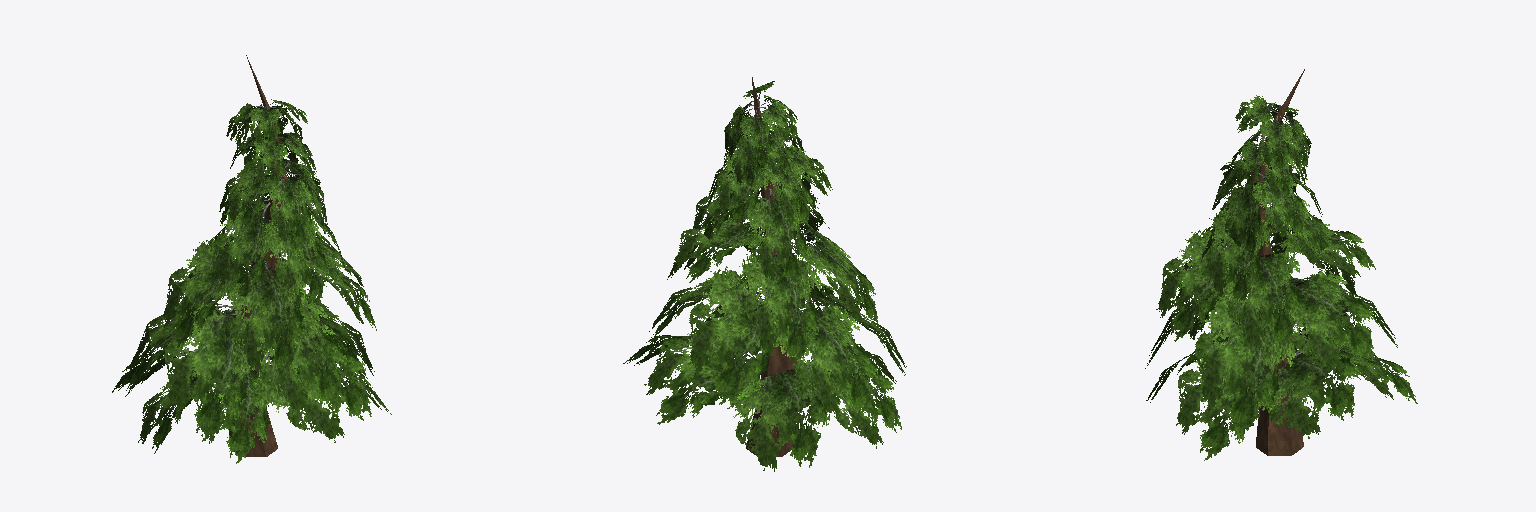
The picture shows the model from 3 angles: view 1: azimuth 30°, elevation 25°; view 2: azimuth 150°, elevation 25°; view 3: azimuth 270°, elevation 25°; orthographic projection.
Parts seen in each view (by area): view 1: Leaves, Plant.obj; view 2: Leaves, Plant.obj; view 3: Leaves, Plant.obj.
Boxes of the visible parts, x1=… form: Leaves: x1=112, y1=99, x2=391, y2=463; Plant.obj: x1=229, y1=55, x2=286, y2=456; Leaves: x1=623, y1=81, x2=906, y2=471; Plant.obj: x1=746, y1=77, x2=796, y2=456; Leaves: x1=1145, y1=95, x2=1417, y2=460; Plant.obj: x1=1252, y1=69, x2=1304, y2=455.
Size of the model in its own units: 10.06 by 14.86 by 10.05.
2 materials, 2 textured.